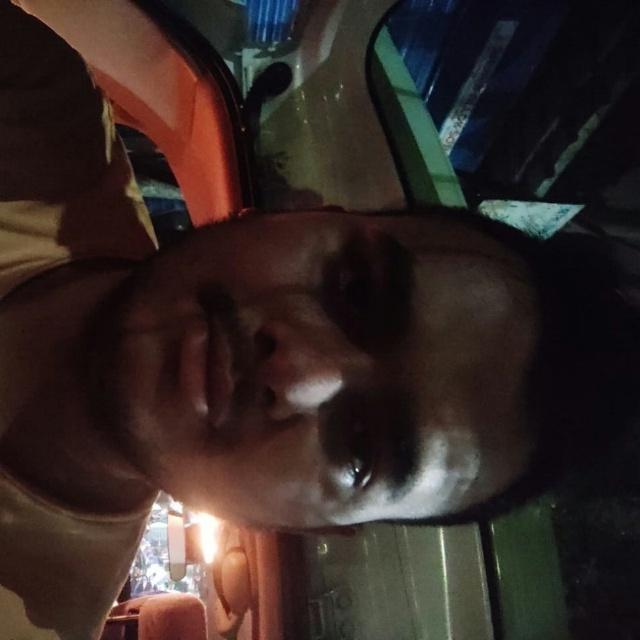Natural: (132, 149, 526, 580)
